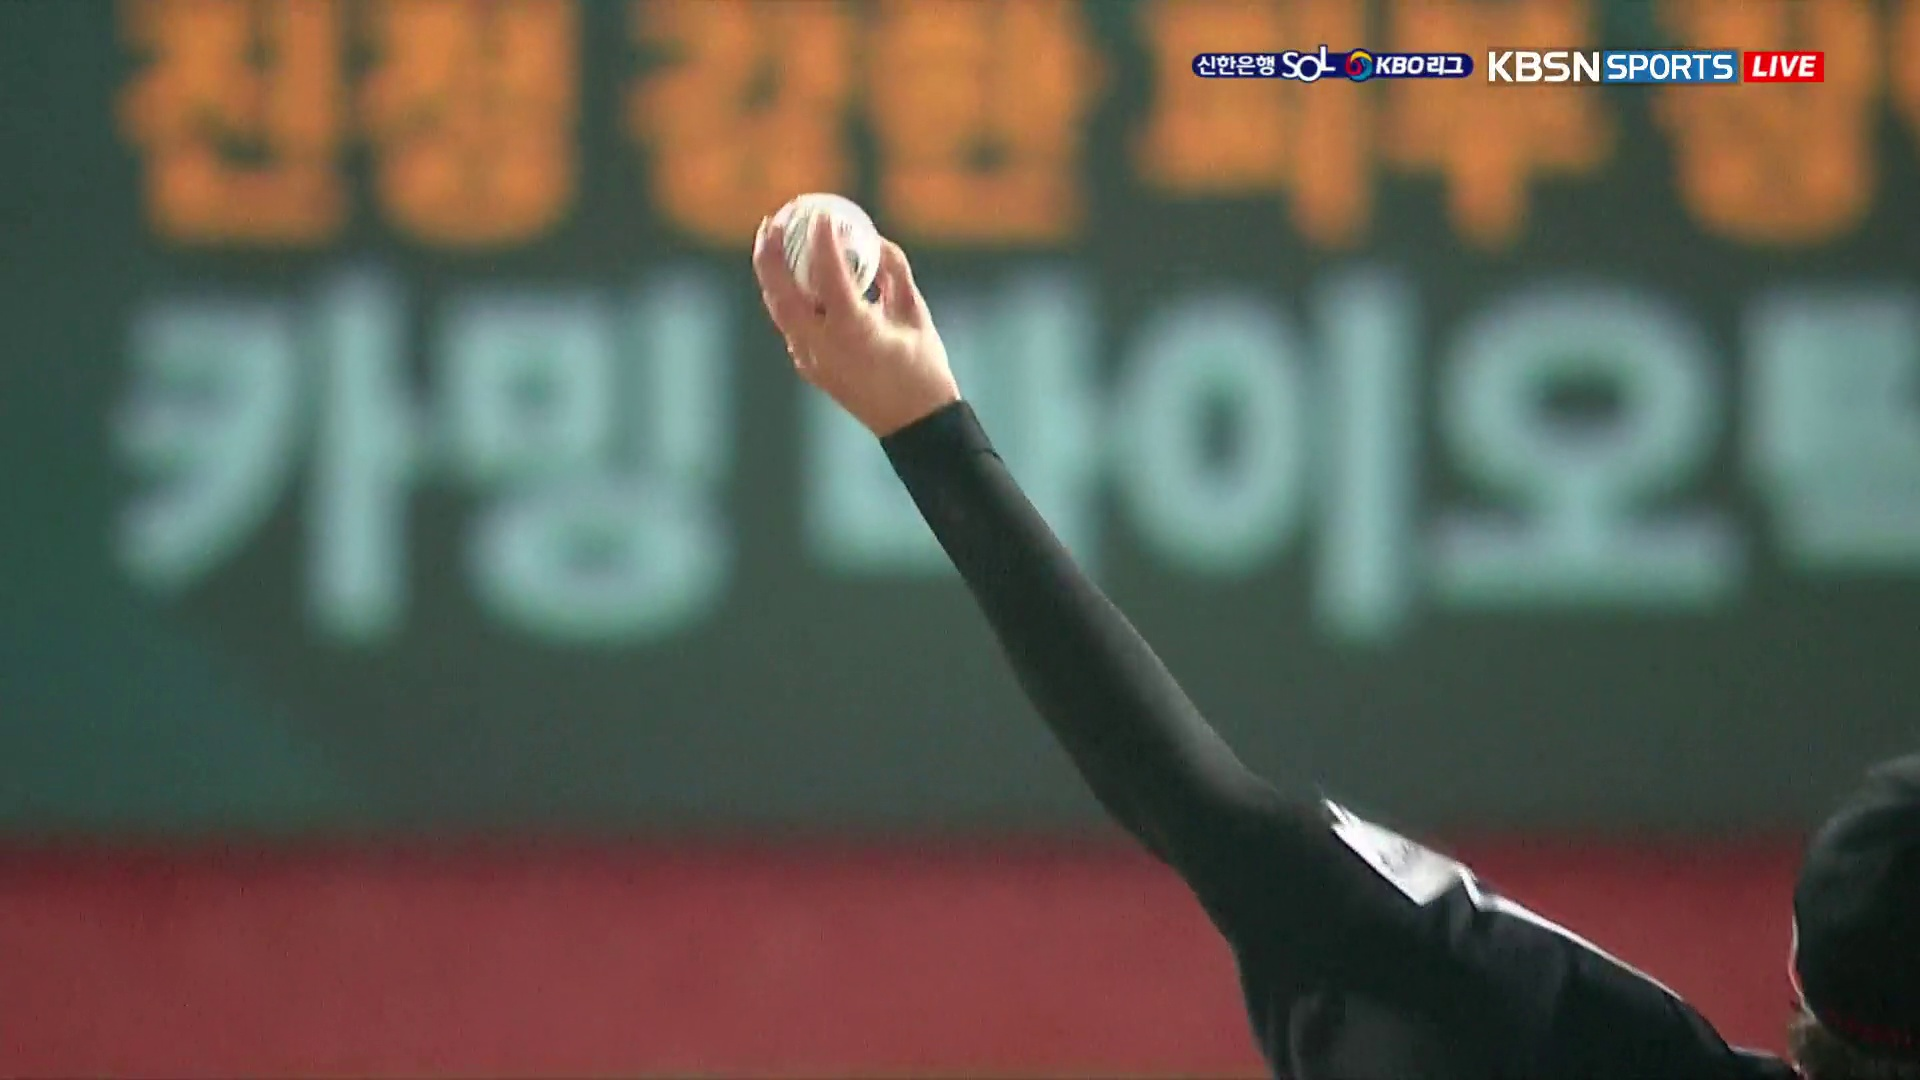zoomin_hand: (741, 185, 1273, 865)
